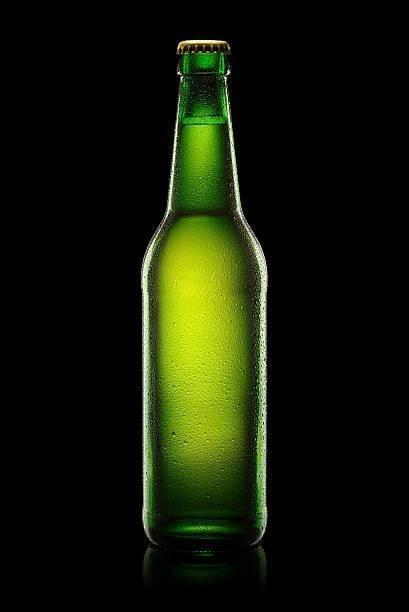bottle-glass: (134, 34, 274, 554)
